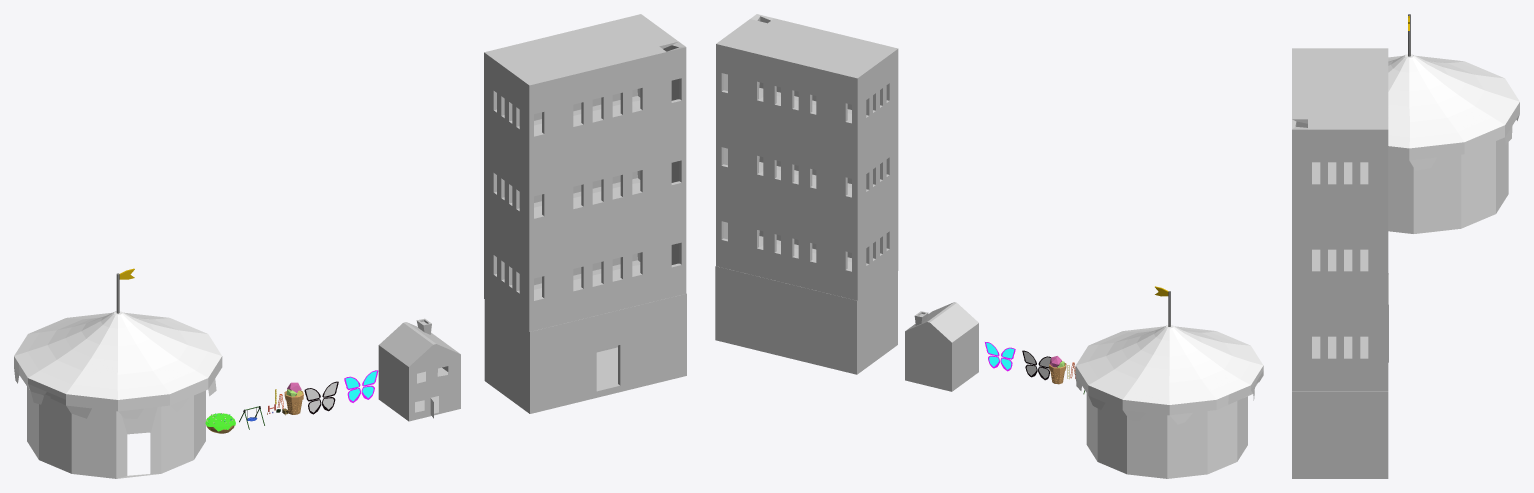
Rendered from props.glb.
3 renders of one model, left to right at view 1: azimuth 30°, elevation 25°; view 2: azimuth 150°, elevation 25°; view 3: azimuth 270°, elevation 25°, orthographic. The views are drawn at different scales.
Parts seen in each view (by area): view 1: Building, Circus, House; view 2: Building, Circus, House; view 3: Building, Circus.
Boxes of the visible parts, left/top/right/bottom form: Building: left=484, top=14, right=686, bottom=413; Circus: left=14, top=273, right=222, bottom=478; House: left=378, top=318, right=460, bottom=421; Building: left=715, top=14, right=898, bottom=374; Circus: left=1075, top=291, right=1263, bottom=478; House: left=905, top=302, right=978, bottom=391; Building: left=1292, top=48, right=1388, bottom=478; Circus: left=1388, top=14, right=1519, bottom=233.
Size of the model in its own units: 77.88 by 40.53 by 23.98.
